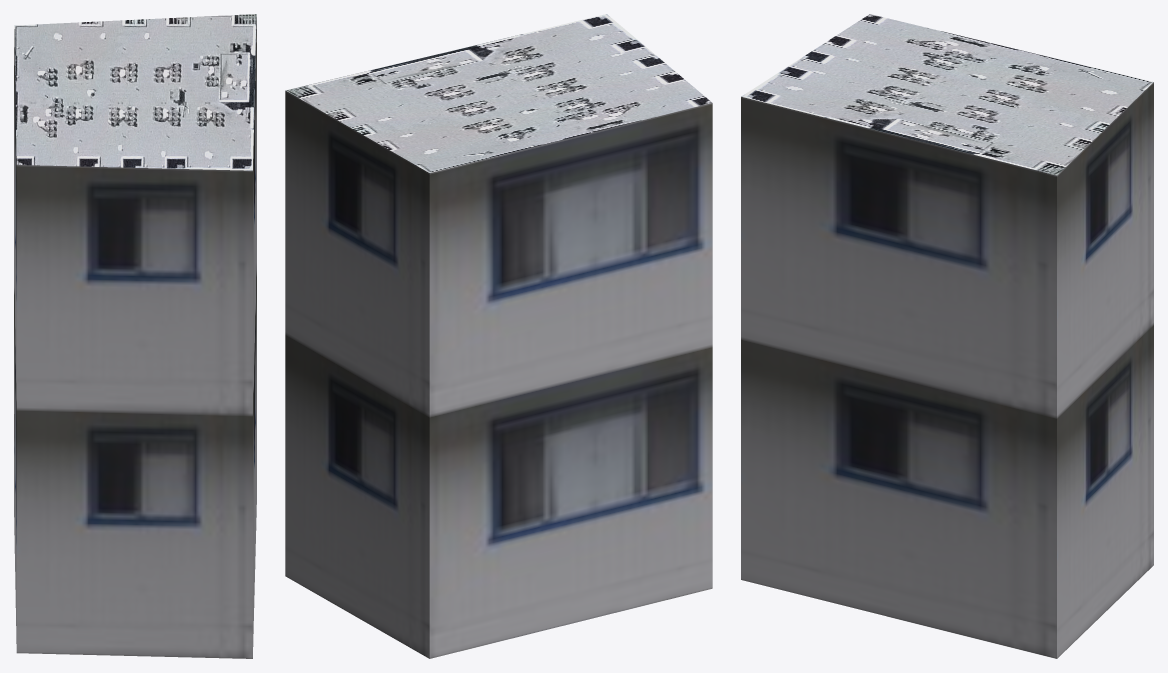
File: ResTex__731.fbx
3 views of the same model, side by side, from view 1: azimuth 30°, elevation 25°; view 2: azimuth 150°, elevation 25°; view 3: azimuth 270°, elevation 25° (orthographic).
Parts seen in each view (by area): view 1: CityEngineMaterial_9_m, CityEngineMaterial_m; view 2: CityEngineMaterial_9_m, CityEngineMaterial_m; view 3: CityEngineMaterial_9_m, CityEngineMaterial_m.
Part boxes in pixels (box(x1,y1,x2,y2)): CityEngineMaterial_9_m: box(14, 17, 256, 658); CityEngineMaterial_m: box(14, 14, 256, 170); CityEngineMaterial_9_m: box(285, 90, 712, 658); CityEngineMaterial_m: box(285, 14, 712, 172); CityEngineMaterial_9_m: box(741, 82, 1153, 658); CityEngineMaterial_m: box(741, 14, 1153, 175).
Size of the model in its own units: 4.31 by 6 by 4.64.
2 materials, 2 textured.
